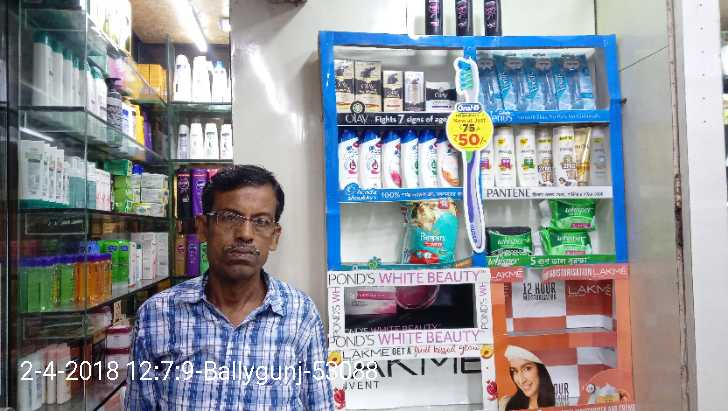venus: (558, 54, 594, 108), (502, 53, 529, 108), (531, 53, 552, 108), (480, 53, 499, 107)
